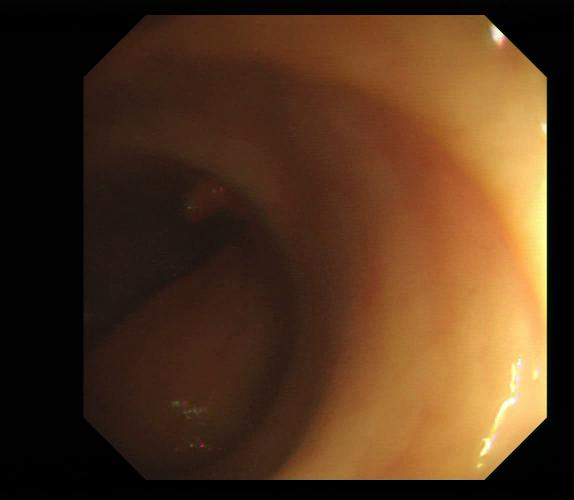polyp: (177, 175, 240, 219)
